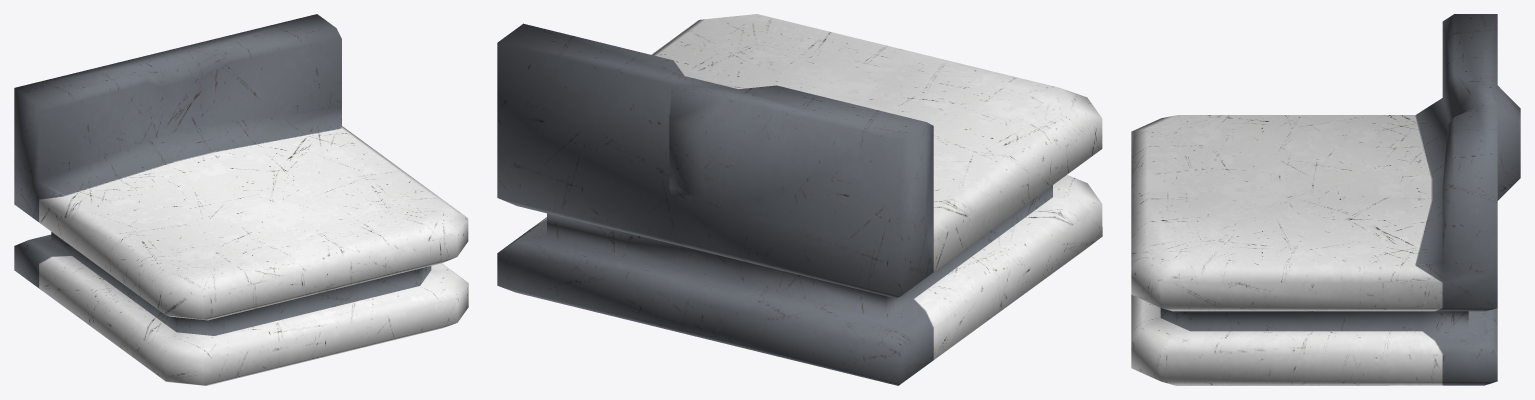
File: Platforma.glb
3 views of the same model, side by side, from view 1: azimuth 30°, elevation 25°; view 2: azimuth 150°, elevation 25°; view 3: azimuth 270°, elevation 25° (orthographic). The views are drawn at different scales.
Visible parts, largest first — view 1: Platforma; view 2: Platforma; view 3: Platforma.
Part boxes in pixels (bbox=[...]): Platforma: bbox=[14, 14, 468, 385]; Platforma: bbox=[497, 14, 1102, 385]; Platforma: bbox=[1131, 14, 1520, 385].
Bounding box in the file's own units: 3 × 1.8 × 3.
1 material, 1 textured.
